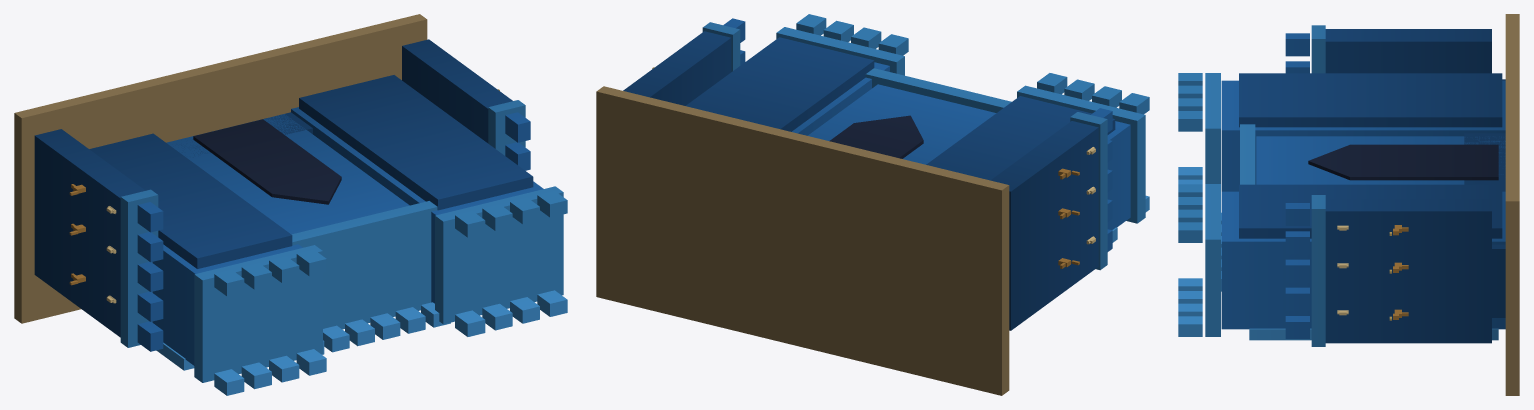
File: ishtar-gate.glb
3 renders of one model, left to right at view 1: azimuth 30°, elevation 25°; view 2: azimuth 150°, elevation 25°; view 3: azimuth 270°, elevation 25°, orthographic. The views are drawn at different scales.
Visible parts, largest first — view 1: part-blueShade, part-cap, part-ground, part-blue, part-blueLight, part-archDark; view 2: part-ground, part-blueShade, part-cap, part-blue, part-archDark; view 3: part-blueShade, part-blue, part-cap, part-archDark, part-ground, part-blueLight, part-ochre.
Boxes of the visible parts, x1,y1,x2,y2 form: part-blueShade: [34, 39, 533, 337]; part-cap: [120, 100, 567, 382]; part-ground: [14, 14, 427, 323]; part-blue: [137, 107, 543, 365]; part-blueLight: [156, 290, 567, 395]; part-archDark: [193, 119, 341, 204]; part-ground: [596, 86, 1009, 395]; part-blueShade: [623, 31, 1115, 330]; part-cap: [702, 14, 1149, 270]; part-blue: [723, 18, 1130, 251]; part-archDark: [829, 115, 923, 158]; part-blueShade: [1239, 29, 1505, 343]; part-blue: [1221, 33, 1505, 338]; part-cap: [1178, 25, 1325, 346]; part-archDark: [1308, 144, 1498, 180]; part-ground: [1505, 14, 1519, 395]; part-blueLight: [1178, 167, 1498, 340]; part-ochre: [1393, 225, 1408, 319].
Size of the model in its own units: 1.35 by 0.62 by 0.985.
